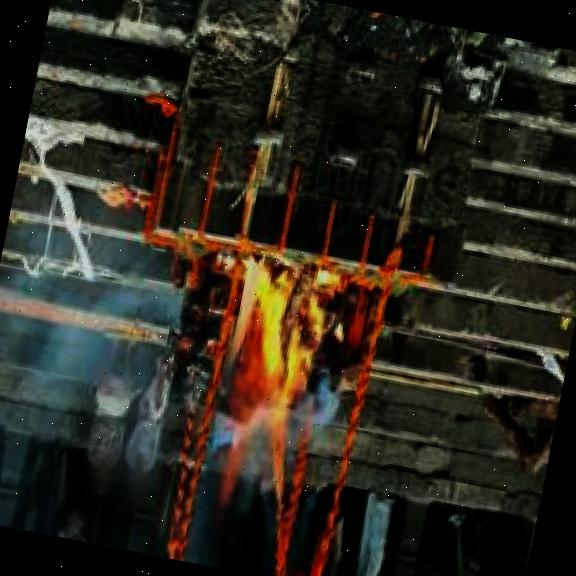fire: (175, 239, 345, 496)
